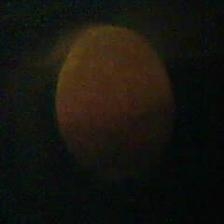fertile: (52, 21, 181, 175)
